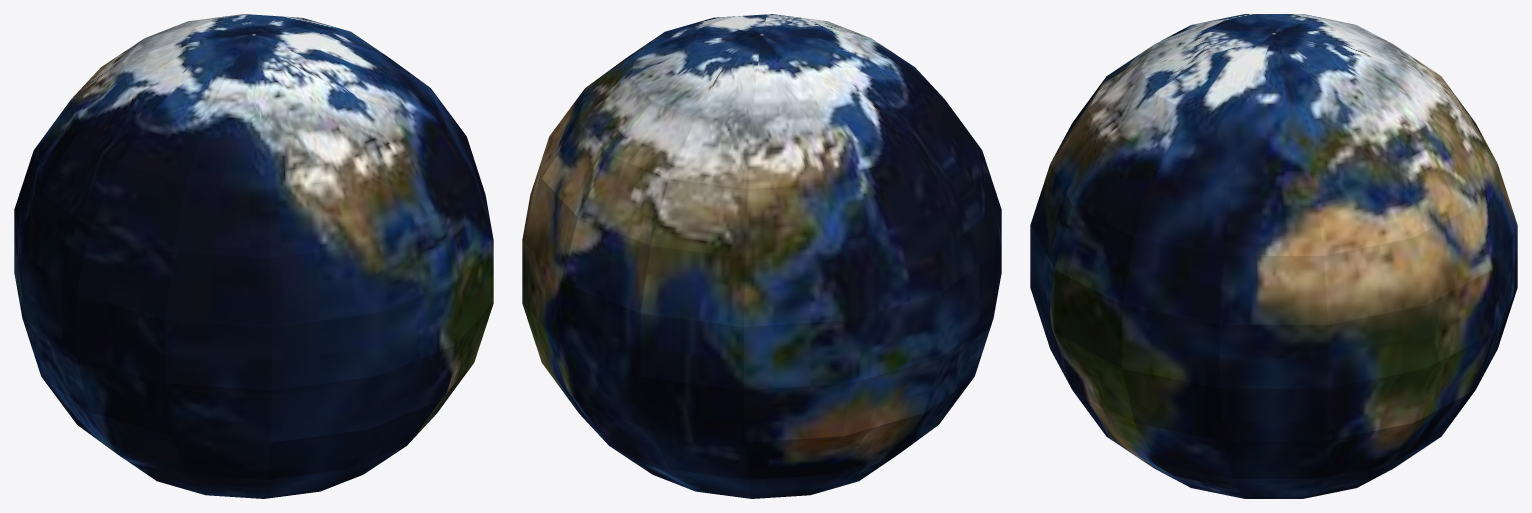
Rendered from Terra2.fbx.
3 views of the same model, side by side, from view 1: azimuth 30°, elevation 25°; view 2: azimuth 150°, elevation 25°; view 3: azimuth 270°, elevation 25° (orthographic).
Visible parts, largest first — view 1: Esfera UV; view 2: Esfera UV; view 3: Esfera UV.
Boxes of the visible parts, bbox=[...] form: Esfera UV: bbox=[14, 14, 493, 498]; Esfera UV: bbox=[522, 14, 1001, 498]; Esfera UV: bbox=[1030, 14, 1517, 498].
Size of the model in its own units: 193 by 200 by 198.
Materials: 1 (1 with a texture image).
